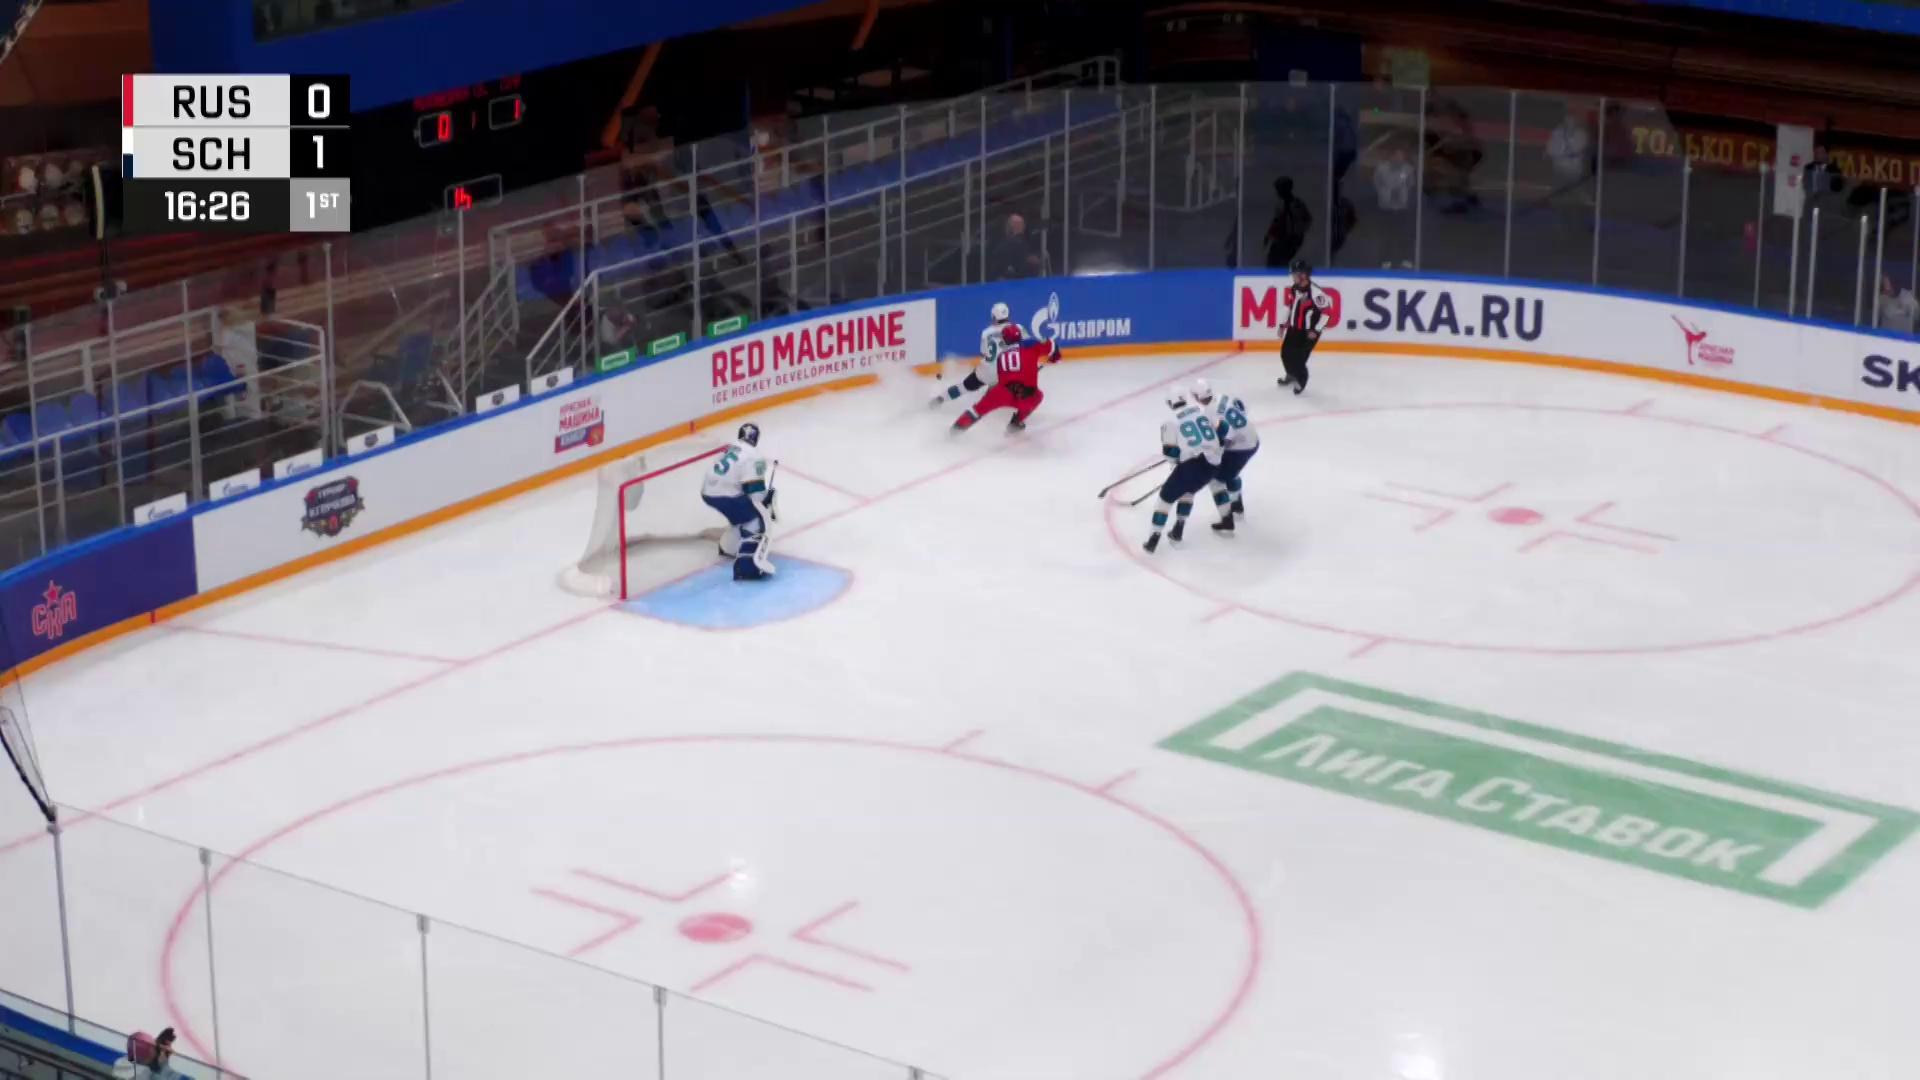ball: (936, 373, 943, 381)
